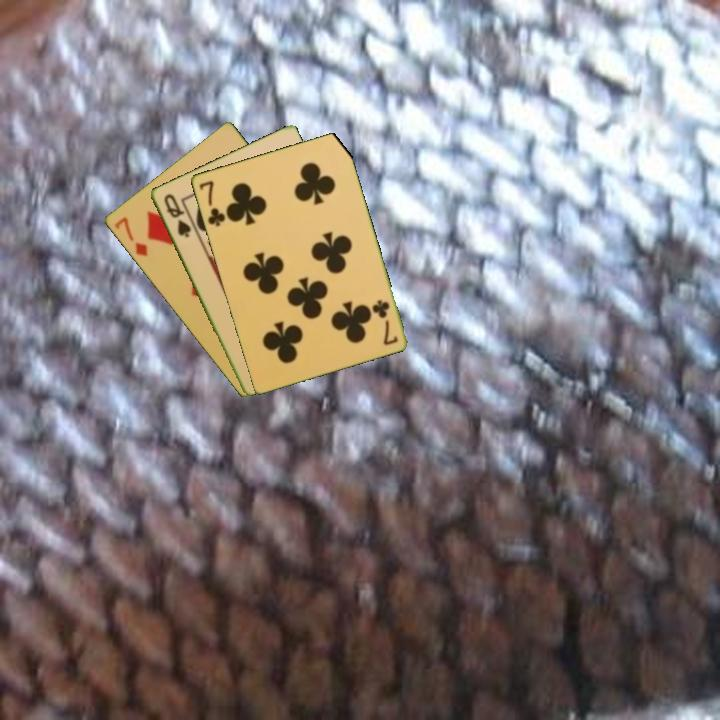7c: (195, 177, 228, 229), (369, 296, 400, 348)
7d: (111, 213, 150, 260)
Qs: (160, 190, 194, 240)
